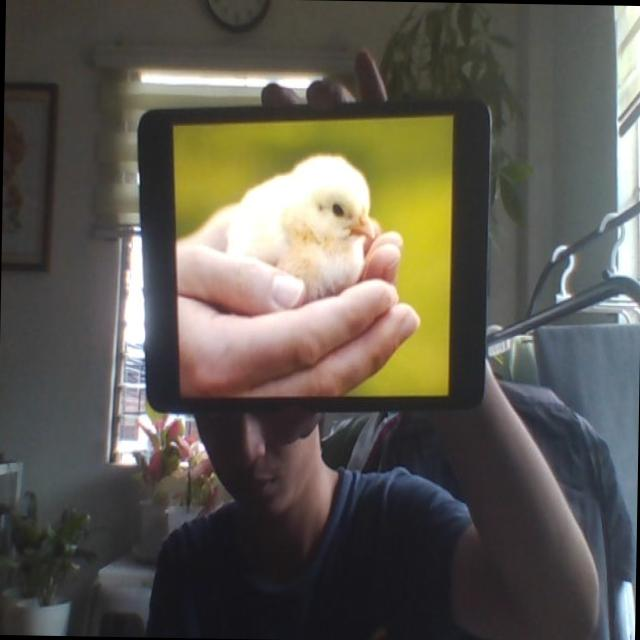Healthy: (224, 150, 376, 297)
